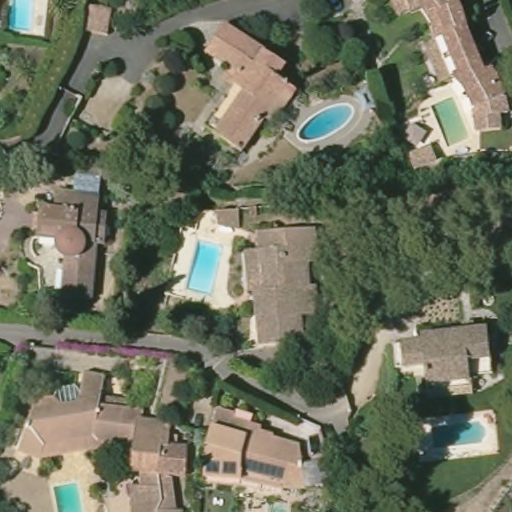pool: (415, 411, 496, 455), (182, 233, 232, 304), (288, 99, 360, 145), (420, 93, 472, 151), (47, 476, 97, 512), (1, 1, 44, 36)
